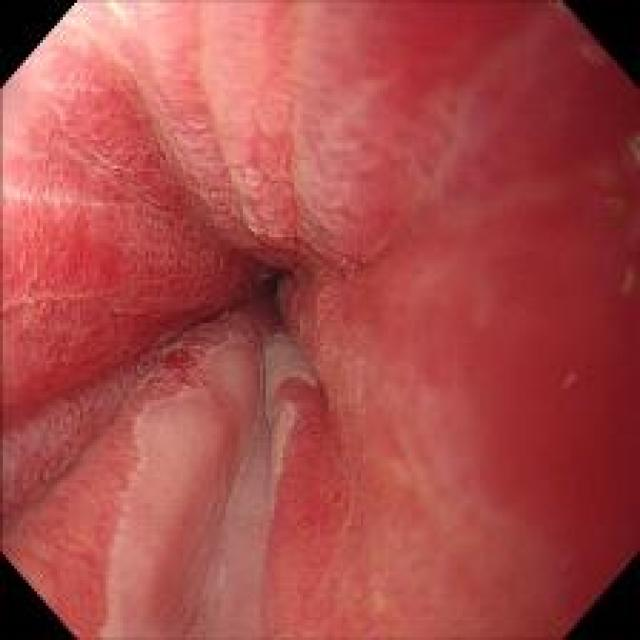blur: (274, 111, 516, 536)
color misalignment: (580, 182, 632, 222), (616, 260, 638, 298)
